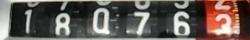digits: (130, 11, 160, 37), (210, 13, 234, 39), (54, 13, 74, 37), (92, 7, 110, 33), (172, 10, 190, 35), (24, 9, 32, 33)
